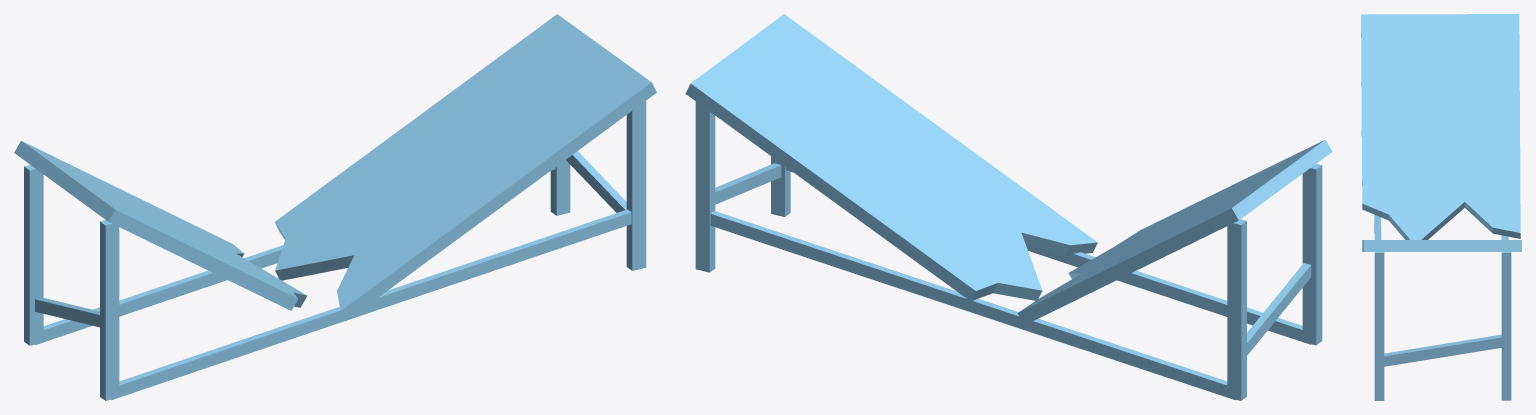
Rendered from Broken wooden table.FBX.
The picture shows the model from 3 angles, left to right: view 1: azimuth 30°, elevation 25°; view 2: azimuth 150°, elevation 25°; view 3: azimuth 270°, elevation 25°; orthographic projection. The views are drawn at different scales.
Visible parts, largest first — view 1: Table broken; view 2: Table broken; view 3: Table broken.
Part boxes in pixels (x1,y1,x2,y2): Table broken: (14, 14, 656, 400); Table broken: (685, 14, 1332, 400); Table broken: (1361, 14, 1521, 400).
Size of the model in its own units: 2.8 by 0.9599 by 0.841.
